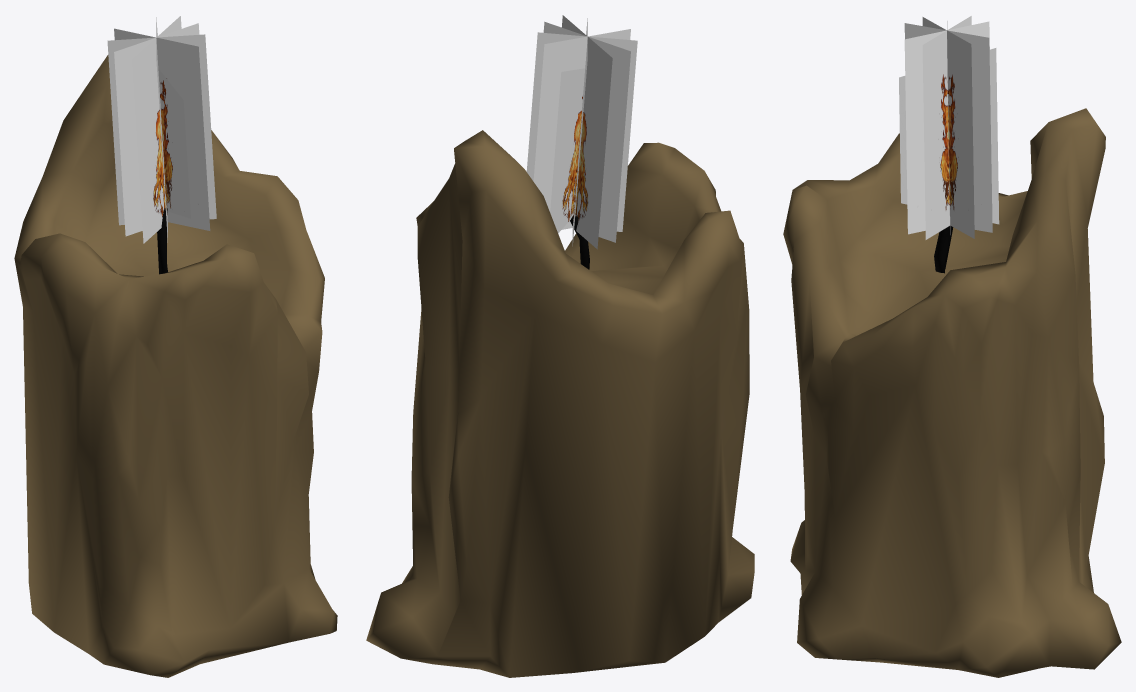
The model's file is Candle_2.fbx.
The picture shows the model from 3 angles, left to right: view 1: azimuth 30°, elevation 25°; view 2: azimuth 150°, elevation 25°; view 3: azimuth 270°, elevation 25°; orthographic projection. The views are drawn at different scales.
Parts seen in each view (by area): view 1: Candle 2; view 2: Candle 2; view 3: Candle 2.
Part boxes in pixels (x1,y1,x2,y2): Candle 2: (14,16,337,677); Candle 2: (366,15,754,677); Candle 2: (783,16,1121,677).
Bounding box in the file's own units: 32.96 × 63.07 × 33.2.
